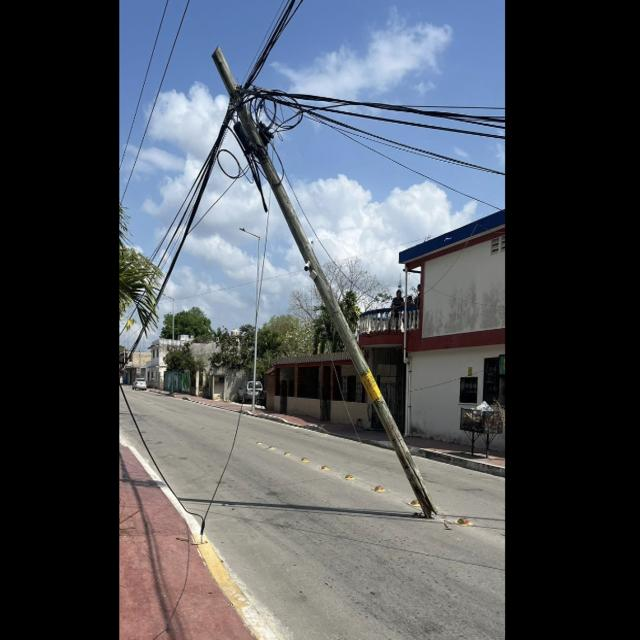Inclined Pole: (206, 42, 438, 516)
